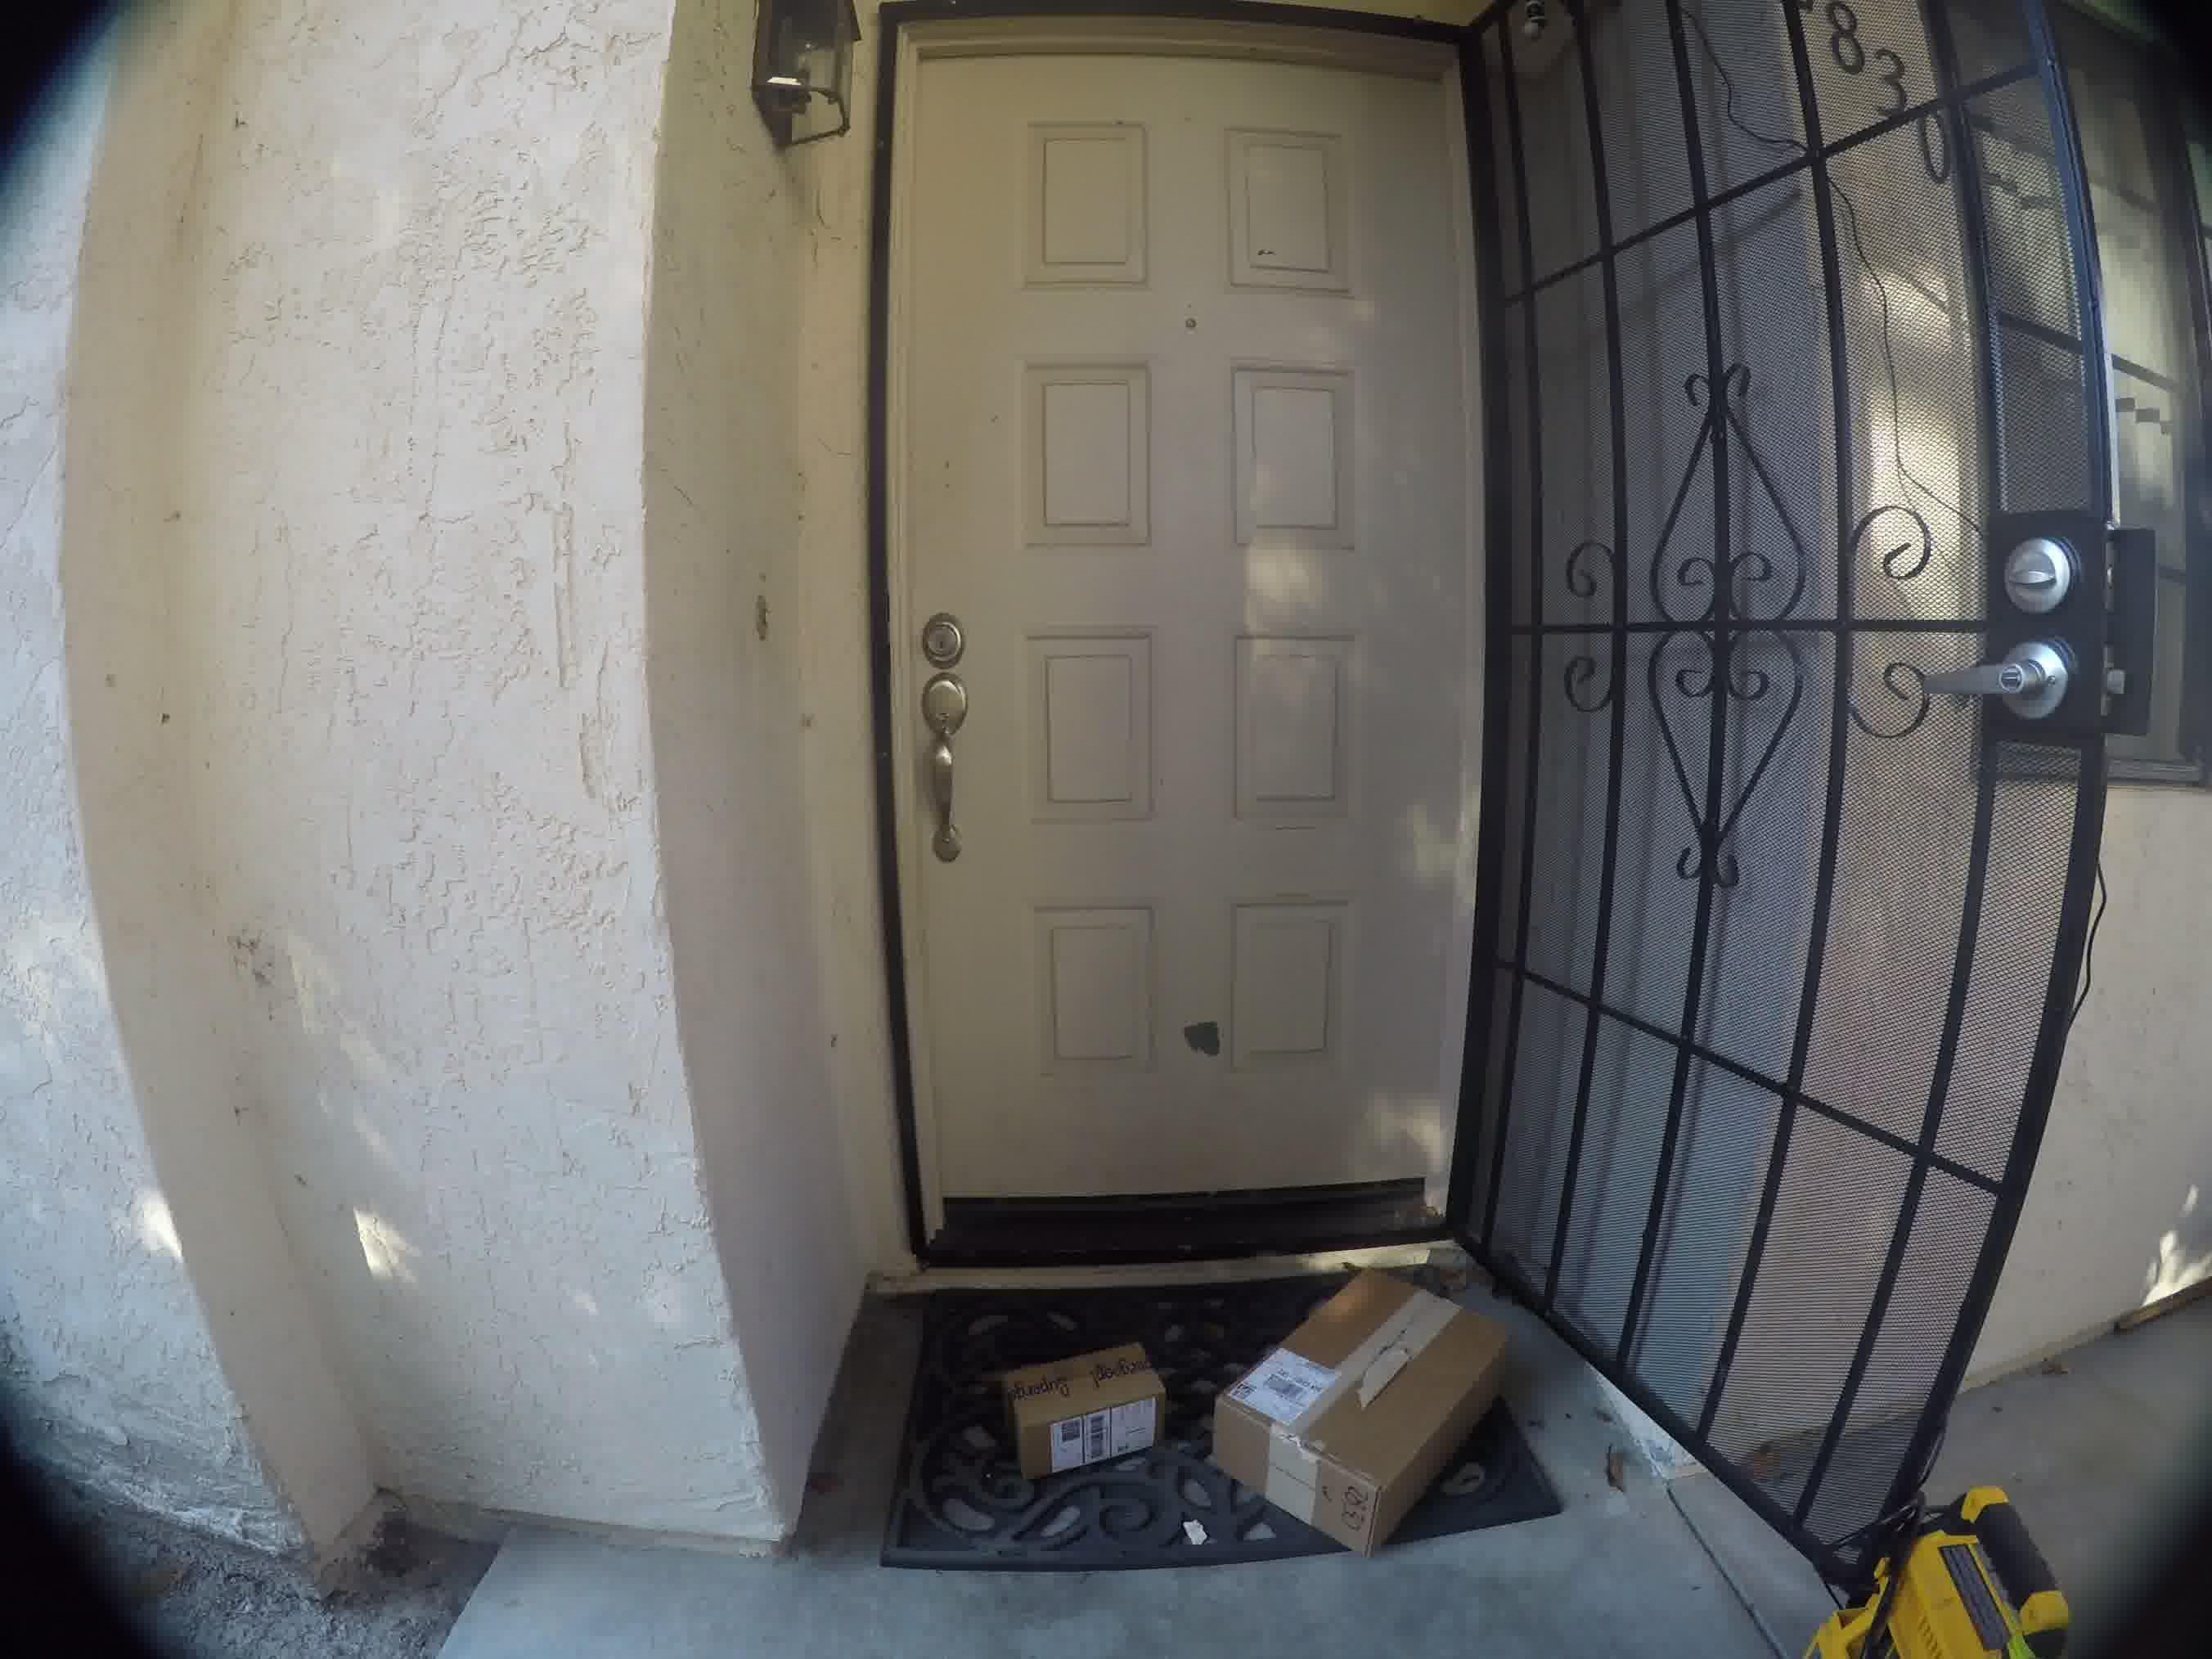box: (1223, 1276, 1541, 1572), (975, 1340, 1158, 1474)
